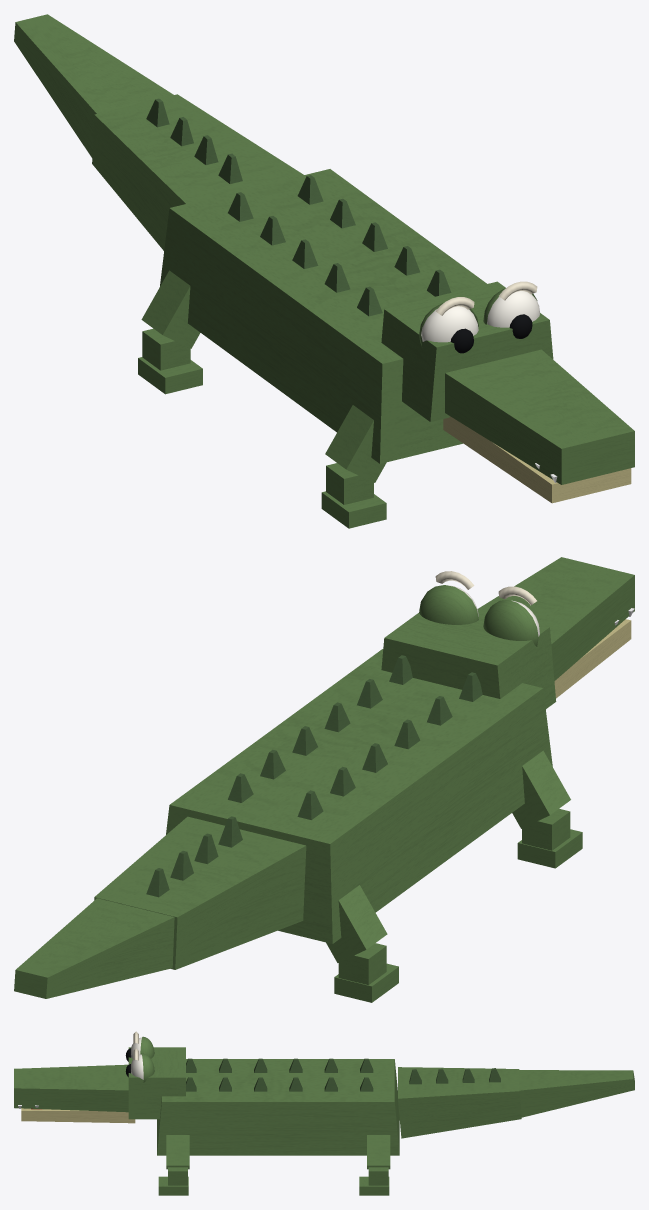
Rendered from crocodile.glb.
The picture shows the model from 3 angles, top to bottom: view 1: azimuth 30°, elevation 25°; view 2: azimuth 150°, elevation 25°; view 3: azimuth 270°, elevation 25°; orthographic projection. The views are drawn at different scales.
Visible parts, largest first — view 1: body, head, tail, tail2, jaw, kneeFR, kneeBR, legFR, legBR; view 2: body, head, tail, tail2, kneeFR, kneeBR, legBR, legFR, jaw; view 3: body, head, tail, tail2, jaw, kneeBL, legFL, legBL, kneeFL.
Boxes of the visible parts, left/top/right/bottom form: body: left=160, top=169, right=486, bottom=463; head: left=381, top=281, right=634, bottom=484; tail: left=92, top=94, right=303, bottom=250; tail2: left=14, top=14, right=173, bottom=157; jaw: left=443, top=416, right=631, bottom=503; kneeFR: left=321, top=463, right=386, bottom=528; kneeBR: left=138, top=328, right=202, bottom=394; legFR: left=325, top=405, right=386, bottom=482; legBR: left=141, top=270, right=200, bottom=348; body: left=166, top=649, right=552, bottom=943; head: left=381, top=557, right=634, bottom=708; tail: left=94, top=816, right=306, bottom=969; tail2: left=14, top=898, right=174, bottom=998; kneeFR: left=517, top=808, right=582, bottom=868; kneeBR: left=334, top=943, right=398, bottom=1002; legBR: left=326, top=885, right=387, bottom=962; legFR: left=512, top=750, right=570, bottom=828; jaw: left=554, top=619, right=631, bottom=698; body: left=157, top=1058, right=399, bottom=1155; head: left=14, top=1031, right=185, bottom=1119; tail: left=398, top=1067, right=521, bottom=1138; tail2: left=519, top=1070, right=634, bottom=1117; jaw: left=21, top=1108, right=135, bottom=1123; kneeBL: left=359, top=1167, right=389, bottom=1195; legFL: left=166, top=1135, right=189, bottom=1169; legBL: left=367, top=1135, right=390, bottom=1169; kneeFL: left=158, top=1167, right=188, bottom=1195.
Bounding box in the file's own units: 0.6694 × 0.6163 × 2.82.
17 materials, 14 textured.
